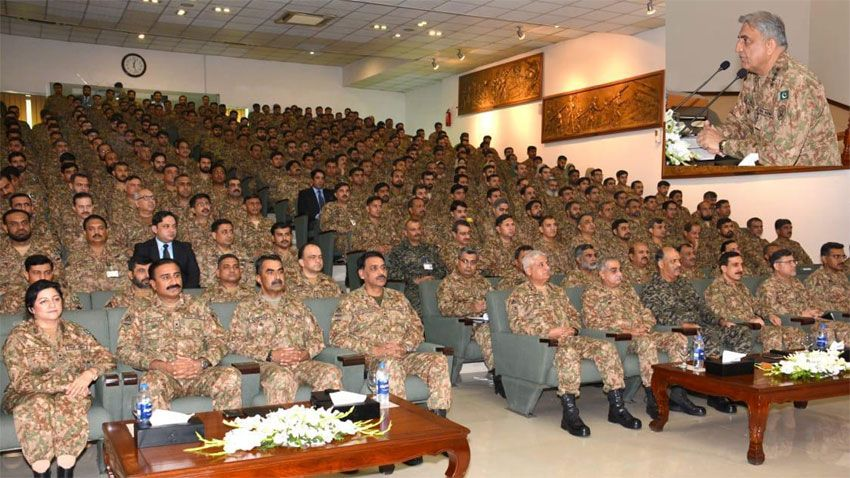uniform: (713, 32, 842, 174), (510, 272, 618, 426), (126, 284, 242, 418), (4, 309, 103, 451), (343, 280, 450, 407), (695, 252, 799, 362), (245, 287, 329, 412), (648, 263, 750, 354), (758, 249, 835, 360), (586, 278, 680, 366), (1, 208, 70, 303), (448, 262, 506, 358), (66, 214, 126, 292), (351, 199, 400, 276), (385, 228, 437, 300), (192, 222, 243, 277), (440, 220, 491, 270), (466, 234, 527, 272), (162, 184, 212, 230), (326, 187, 360, 251), (221, 133, 259, 188), (589, 227, 635, 269), (273, 161, 311, 207), (536, 234, 572, 279), (259, 153, 289, 204), (241, 201, 271, 247), (647, 217, 672, 269), (172, 111, 199, 150), (203, 124, 228, 159)
